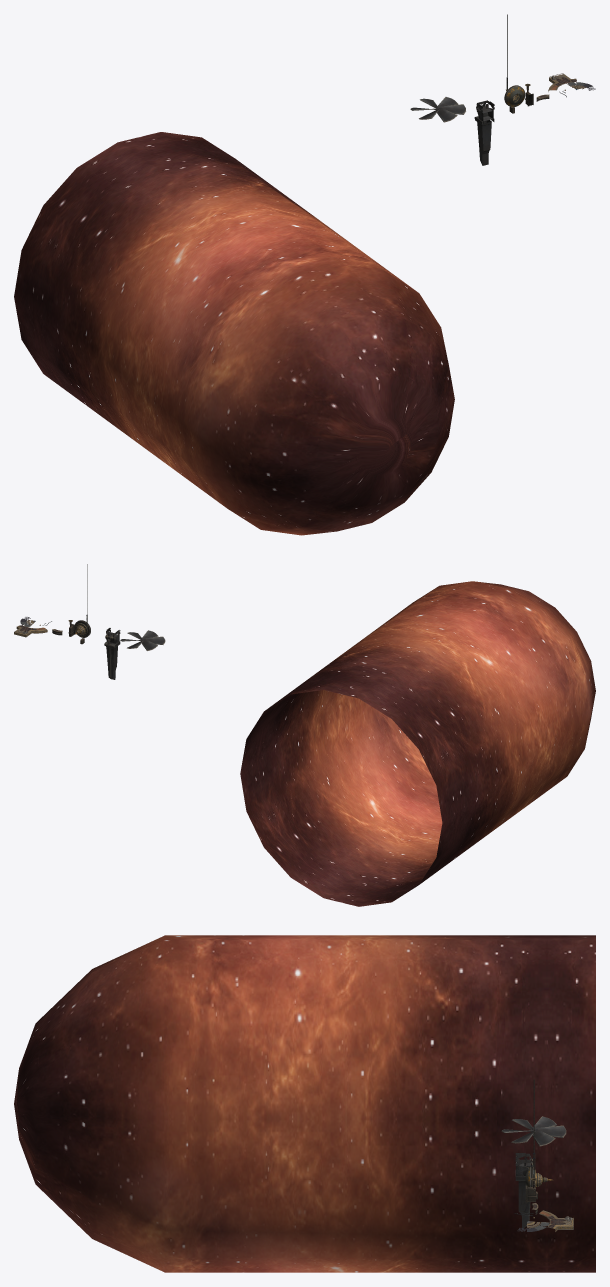
Rendered from f_2230_porps.FBX.
3 views of the same model, one above another, from view 1: azimuth 30°, elevation 25°; view 2: azimuth 150°, elevation 25°; view 3: azimuth 270°, elevation 25° (orthographic). The views are drawn at different scales.
Visible parts, largest first — view 1: f_sky, f_Pillar, f_Fans; view 2: f_sky, f_Pillar, f_Fans; view 3: f_sky, f_Fans, f_Pillar.
Part boxes in pixels (<box>): f_sky: <box>14,132,454,535</box>; f_Pillar: <box>474,100,494,165</box>; f_Fans: <box>410,97,465,122</box>; f_sky: <box>240,581,595,906</box>; f_Pillar: <box>104,628,120,679</box>; f_Fans: <box>120,630,165,650</box>; f_sky: <box>14,935,595,1272</box>; f_Fans: <box>501,1116,566,1146</box>; f_Pillar: <box>515,1153,533,1228</box>.
Size of the model in its own units: 34639 by 19059 by 27129.
